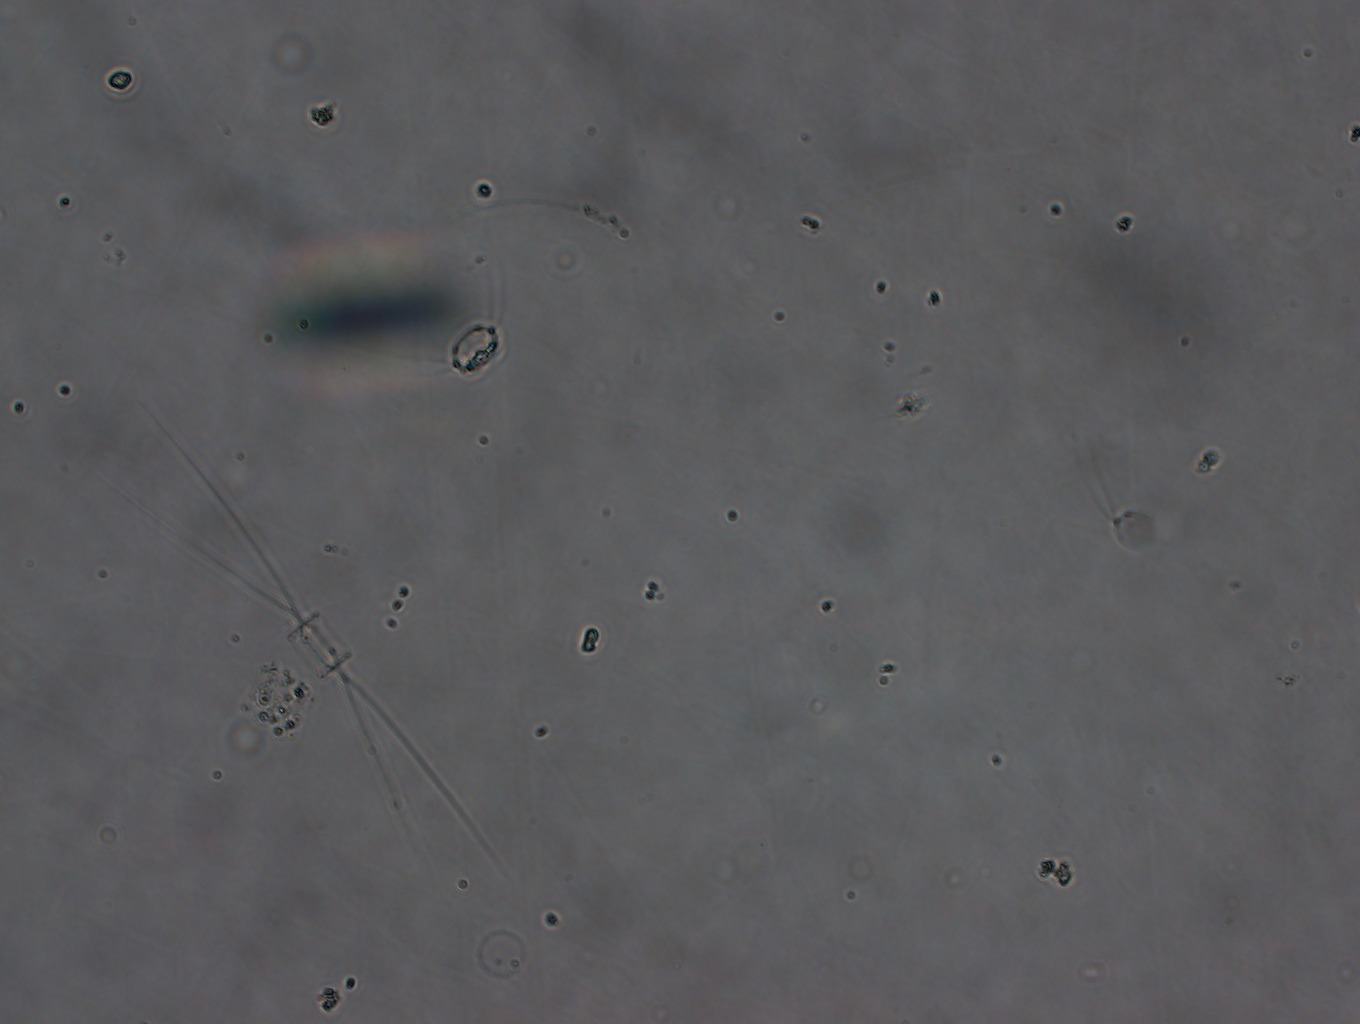chaetoceros: (121, 411, 517, 896), (392, 247, 507, 386)
